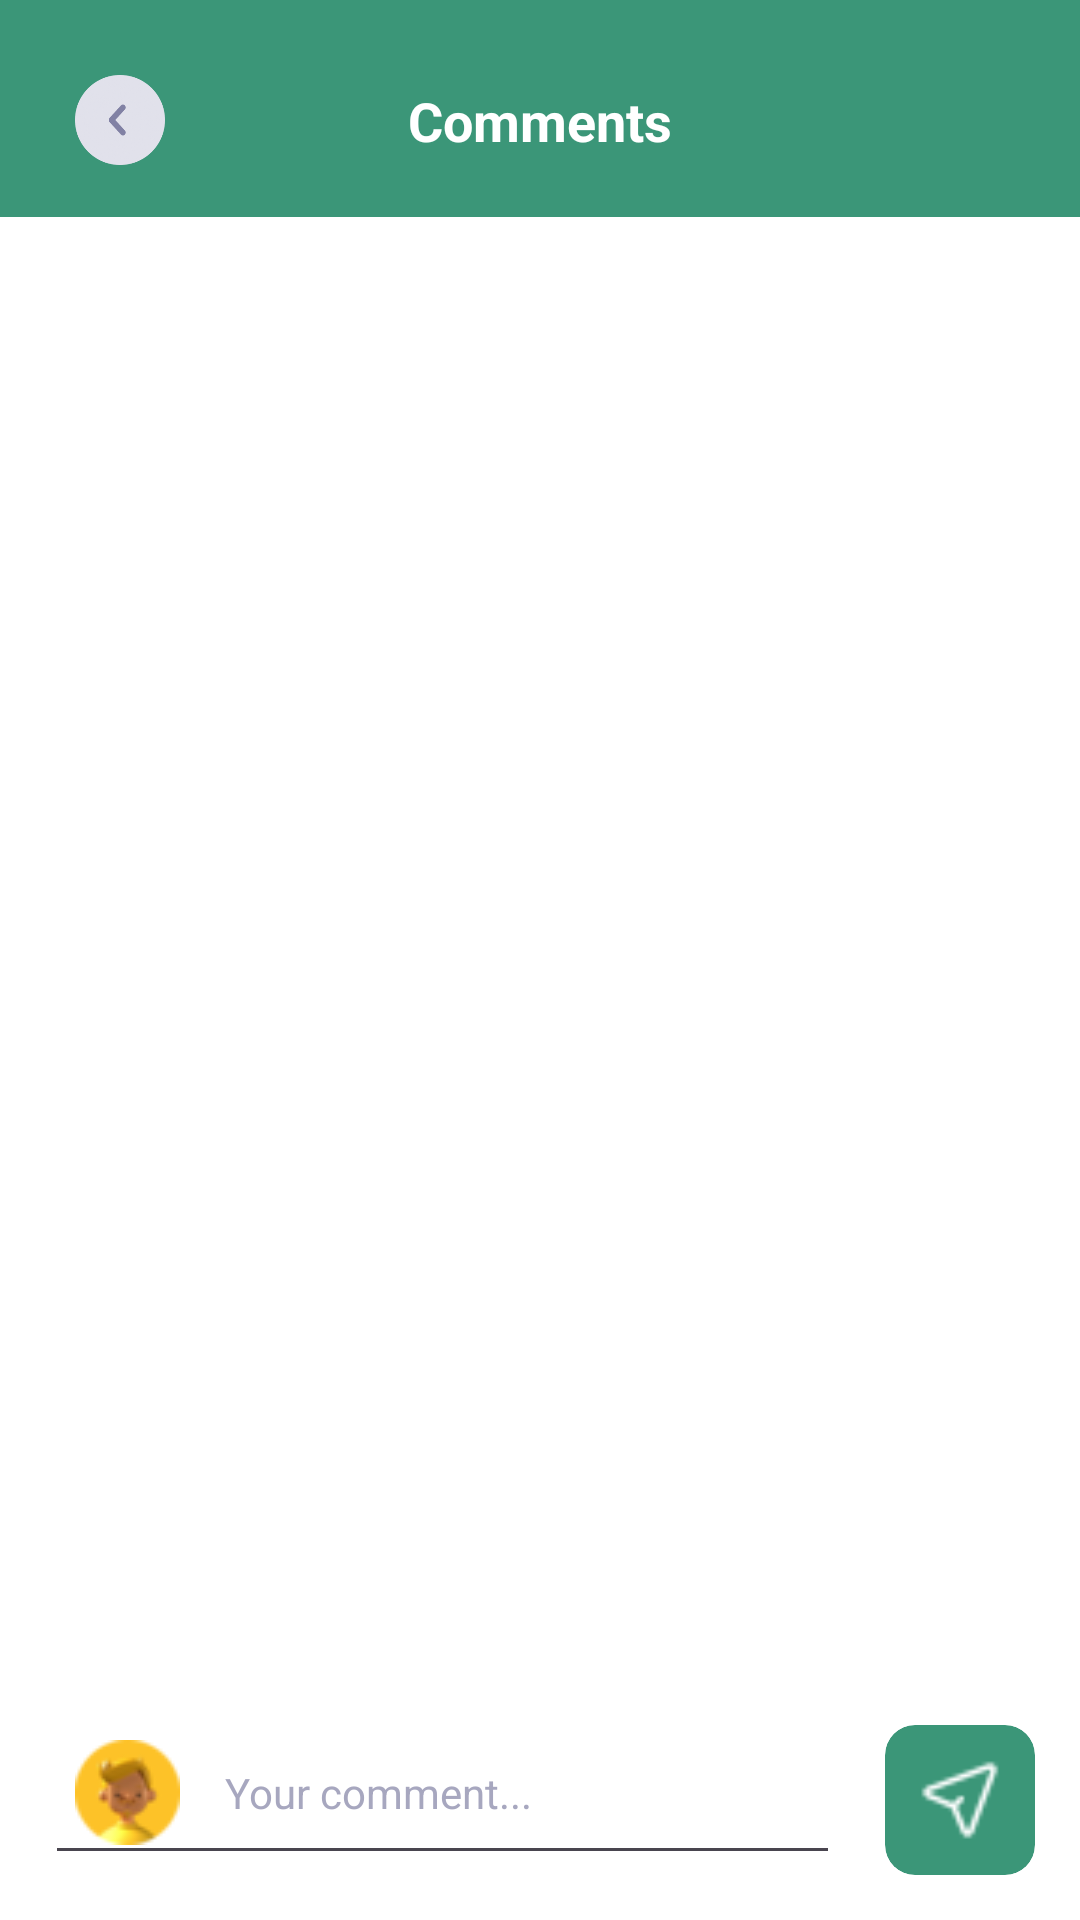

Locate icon controls on the screen. Image size 1080w x 1920h, boxes as {"left": x1, "top": y1, "right": x2, "bottom": y2}.
back: {"left": 75, "top": 75, "right": 165, "bottom": 165}
send: {"left": 921, "top": 1761, "right": 999, "bottom": 1839}
